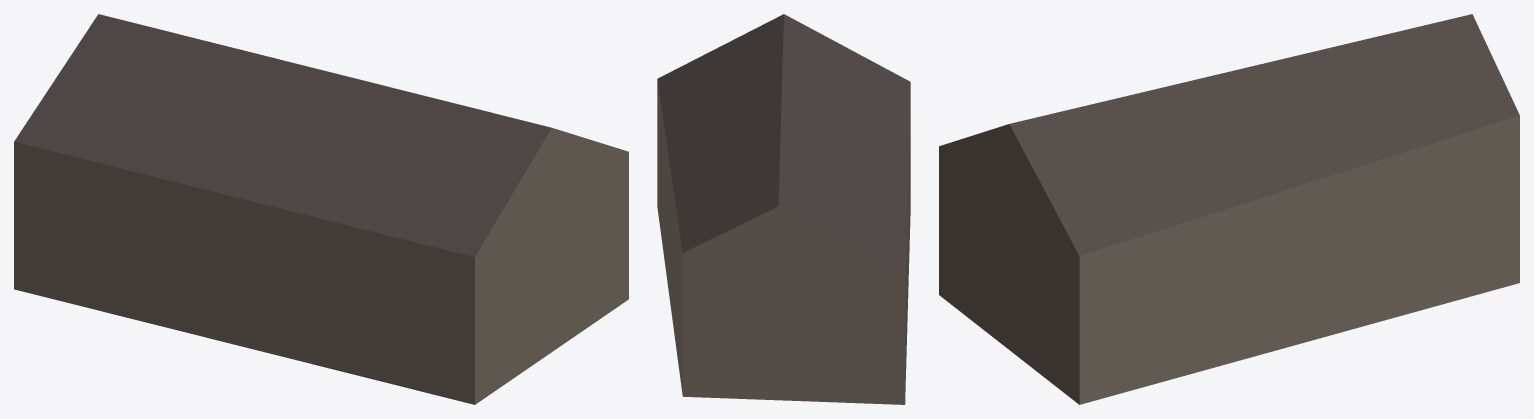
The picture shows the model from 3 angles, left to right: view 1: azimuth 30°, elevation 25°; view 2: azimuth 150°, elevation 25°; view 3: azimuth 270°, elevation 25°; orthographic projection. The views are drawn at different scales.
Visible parts, largest first — view 1: HP-w369237898; view 2: HP-w369237898; view 3: HP-w369237898.
Boxes of the visible parts, bbox=[...] form: HP-w369237898: bbox=[14, 14, 628, 404]; HP-w369237898: bbox=[657, 14, 910, 404]; HP-w369237898: bbox=[939, 14, 1519, 404].
Bounding box in the file's own units: 19.17 × 9.12 × 21.23.
